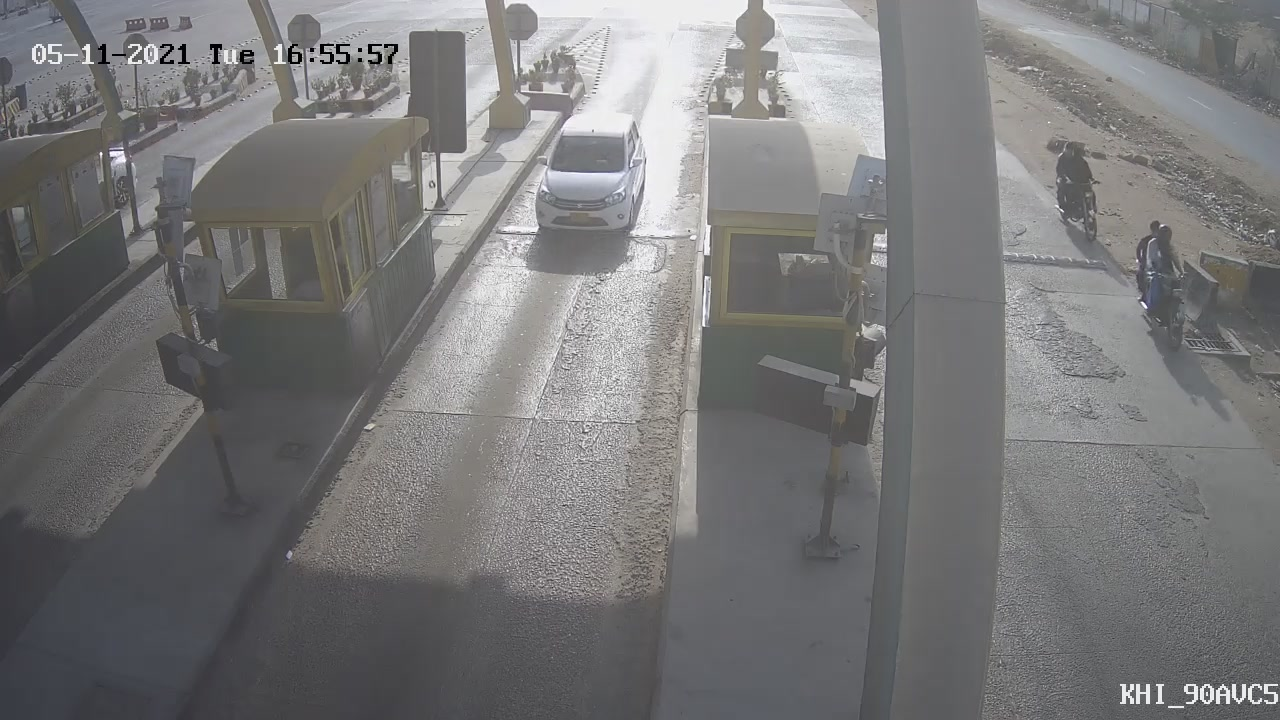F1: (509, 92, 664, 256)
